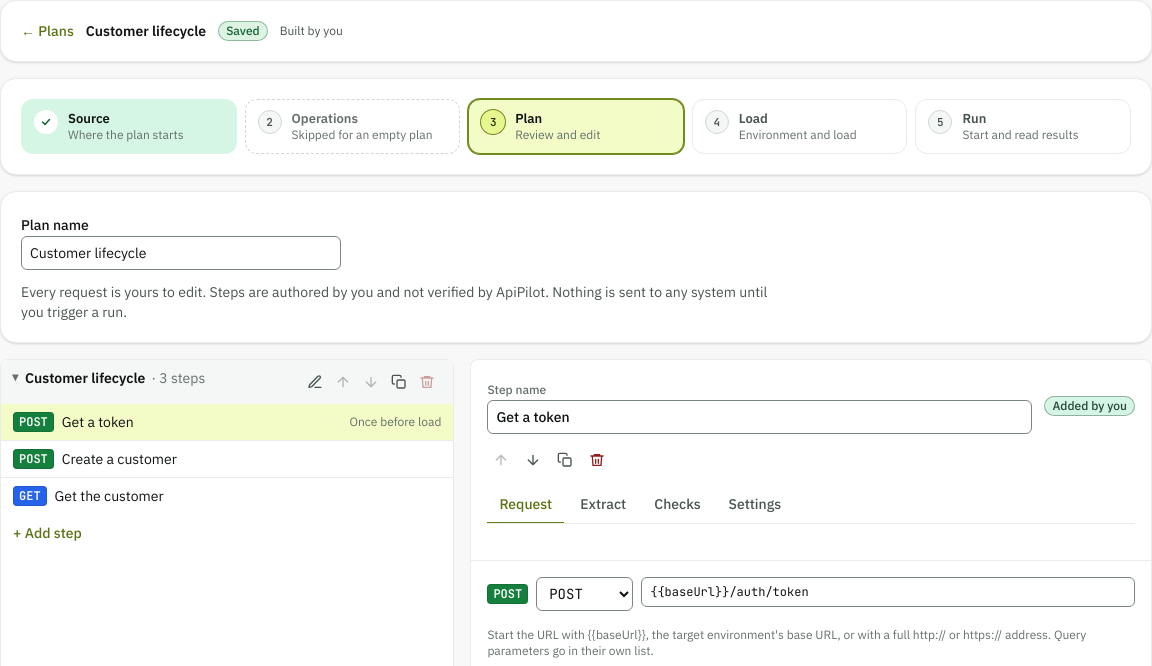
Test: the plan's chains on the Plan step › says Not saved, not Saved, while the server refuses the plan, and blocks generation
Expected: the field labelled "Plan name" is shown, [21,236,341,270]
Click the text "Get the customer".
click(109, 496)  # box [55,487,164,505]
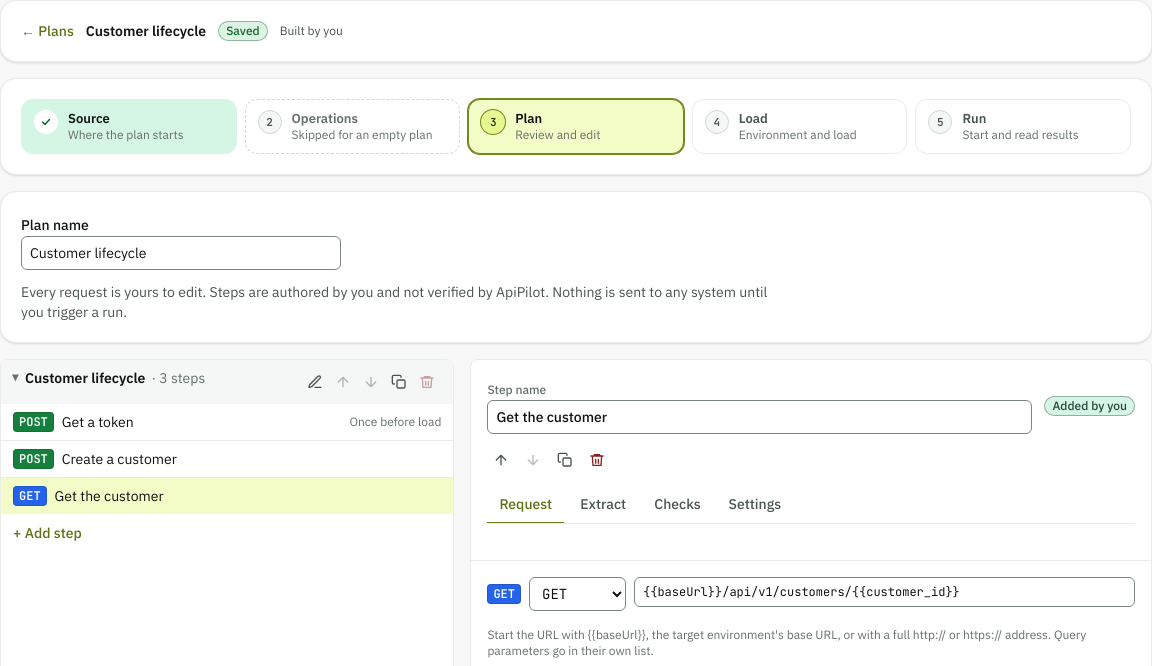
Replace the text in the field labelled "Step name" with "Renamed" at (760,417), box [487,400,1032,434]
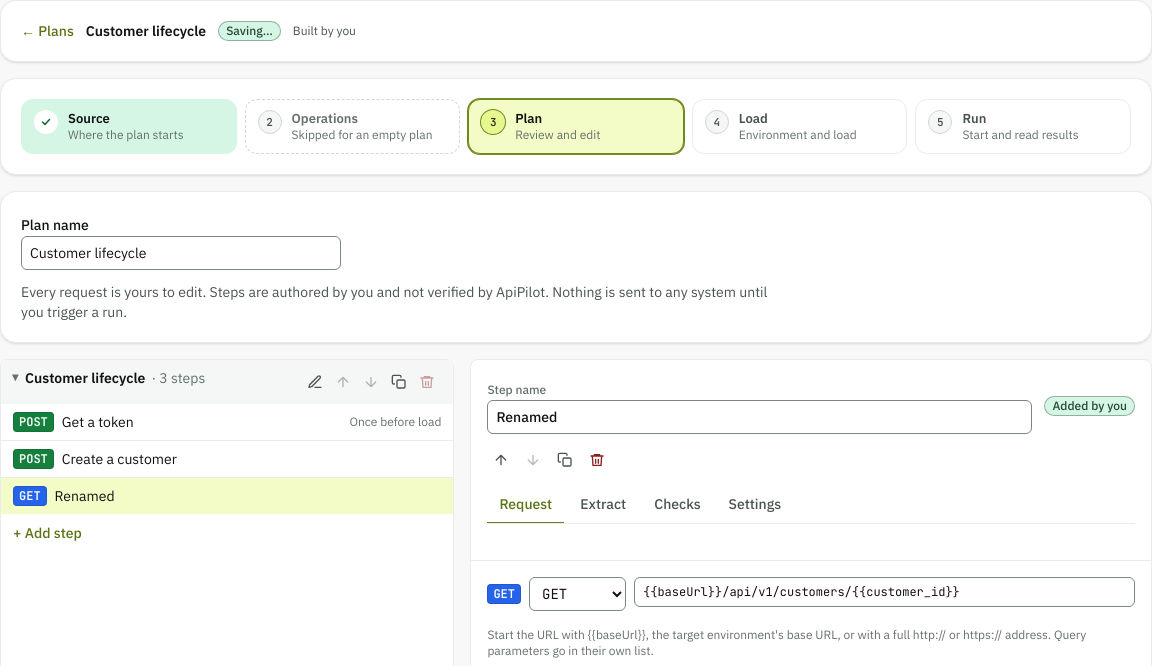
Leave the field labelled "Step name", box [487,400,1032,434]
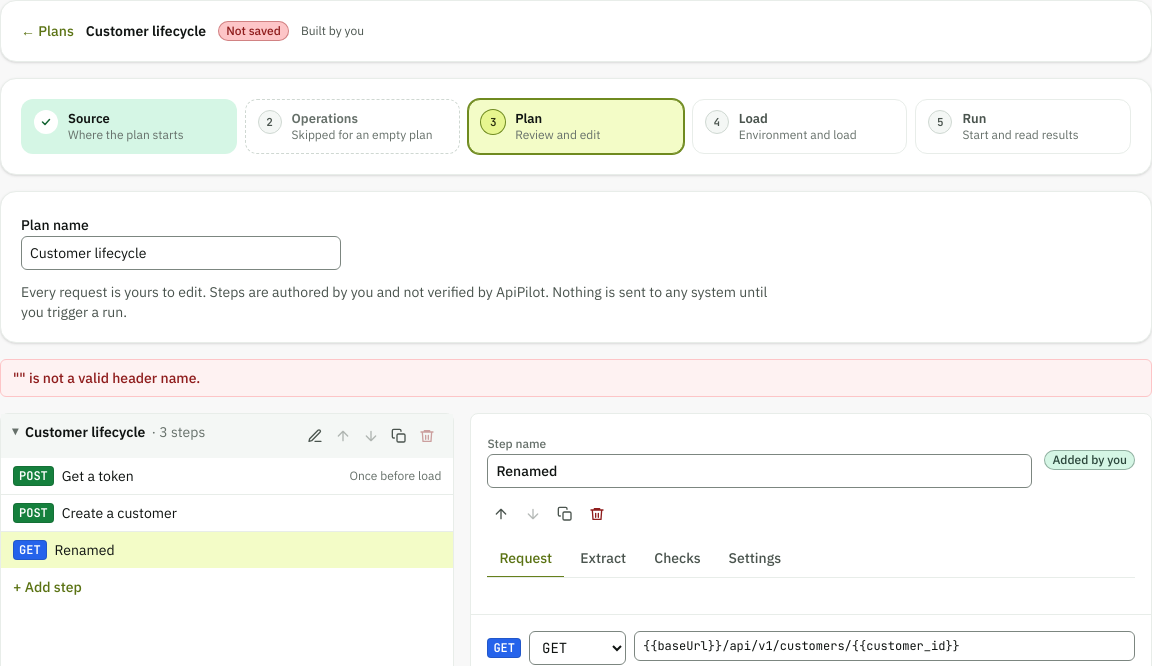
Expected: the message with test id "plan-save-error" shows "is not a valid header name.", [13,369,200,387]
Expected: the text "Not saved" is shown, [218,21,289,41]
Click the button "4 Load Environment and load".
click(800, 127)  # box [692,99,907,154]
(page scrolled)
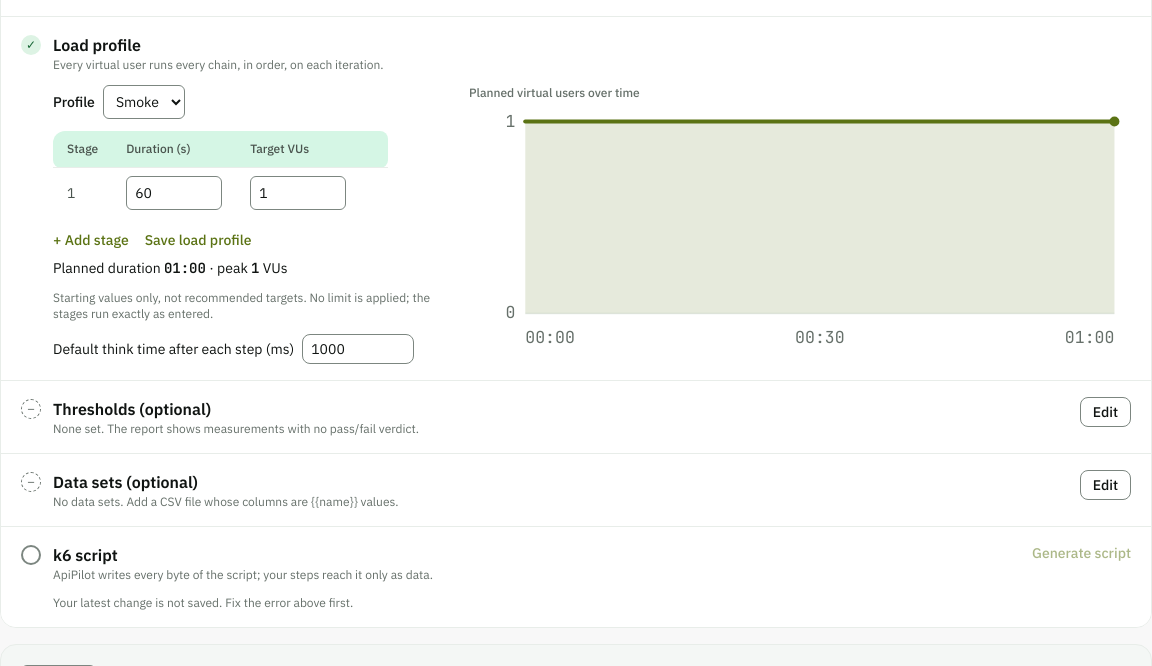
Expected: the button "Generate script" is disabled, [1032,543,1131,563]
Expected: the text "Your latest change is not saved. Fix the error above first." is shown, [53,595,353,610]
